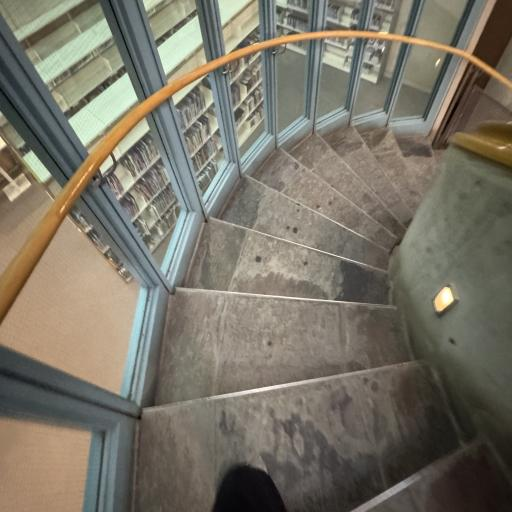Stairs: (134, 127, 510, 512), (135, 361, 458, 512), (155, 288, 411, 405), (184, 218, 390, 304), (219, 176, 389, 270), (254, 149, 398, 250), (290, 134, 406, 238), (354, 444, 512, 512), (324, 126, 412, 226), (361, 128, 421, 214), (396, 135, 438, 197)
